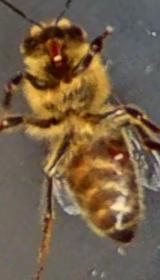varroa_mite: (98, 138, 144, 169)
